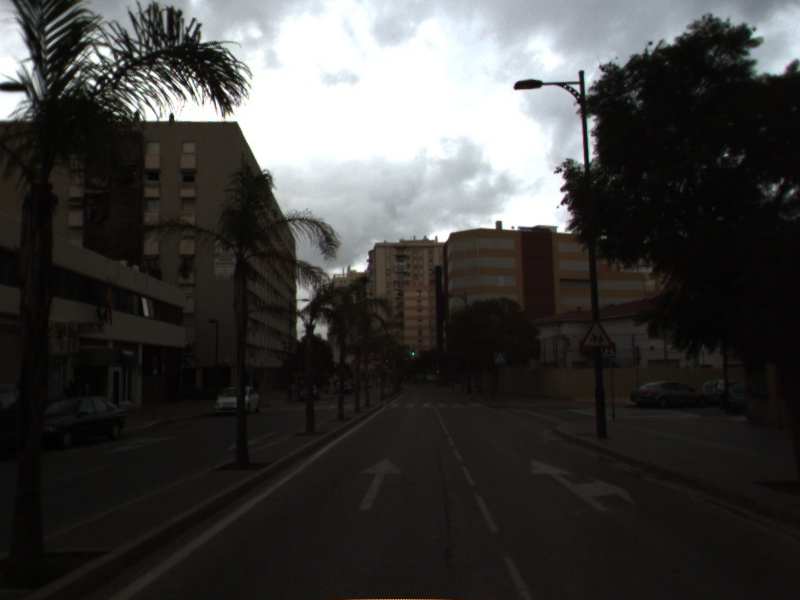STRAIGHT: (356, 455, 406, 513)
STRAIGHT_RIGHT: (529, 455, 639, 513)
